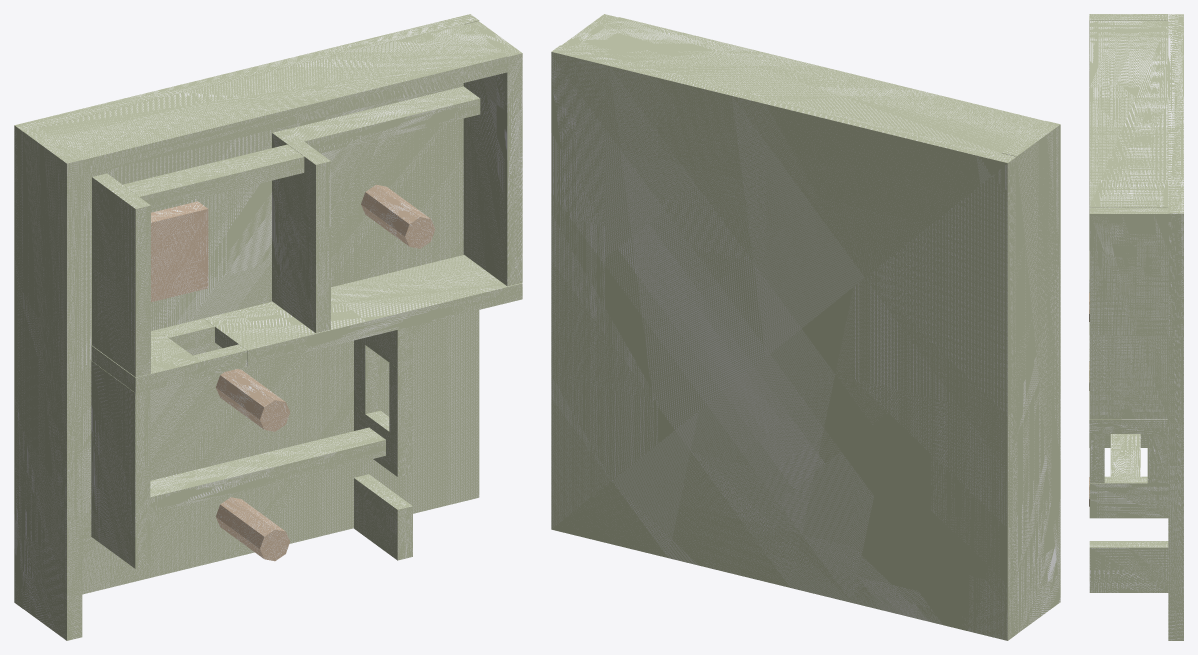
The model's file is Home_env.dae.
The picture shows the model from 3 angles, left to right: view 1: azimuth 30°, elevation 25°; view 2: azimuth 150°, elevation 25°; view 3: azimuth 270°, elevation 25°; orthographic projection. The views are drawn at different scales.
Parts seen in each view (by area): view 1: instance_0 (×23); view 2: instance_0 (×3); view 3: instance_0 (×10).
Boxes of the visible parts, x1,y1,x2,y2 form: instance_0 (×23): [14, 14, 522, 640]; instance_0 (×3): [551, 17, 1060, 640]; instance_0 (×10): [1089, 14, 1183, 640].
Size of the model in its own units: 709 by 143 by 709.
